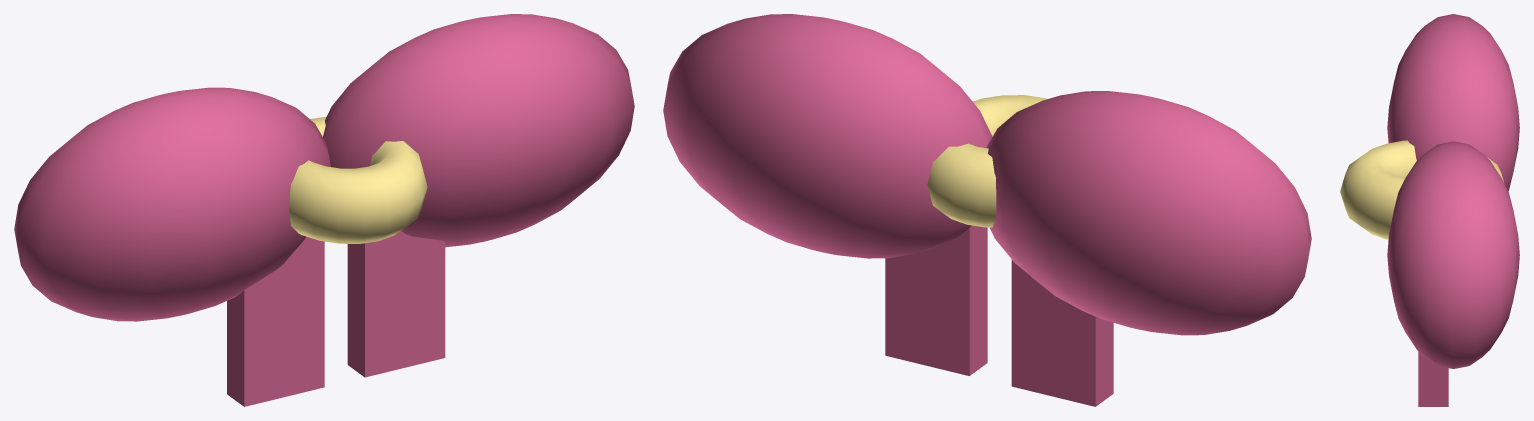
Rendered from bowtie_chic.glb.
The picture shows the model from 3 angles, left to right: view 1: azimuth 30°, elevation 25°; view 2: azimuth 150°, elevation 25°; view 3: azimuth 270°, elevation 25°; orthographic projection. The views are drawn at different scales.
Size of the model in its own units: 0.612 by 0.292 by 0.179.
